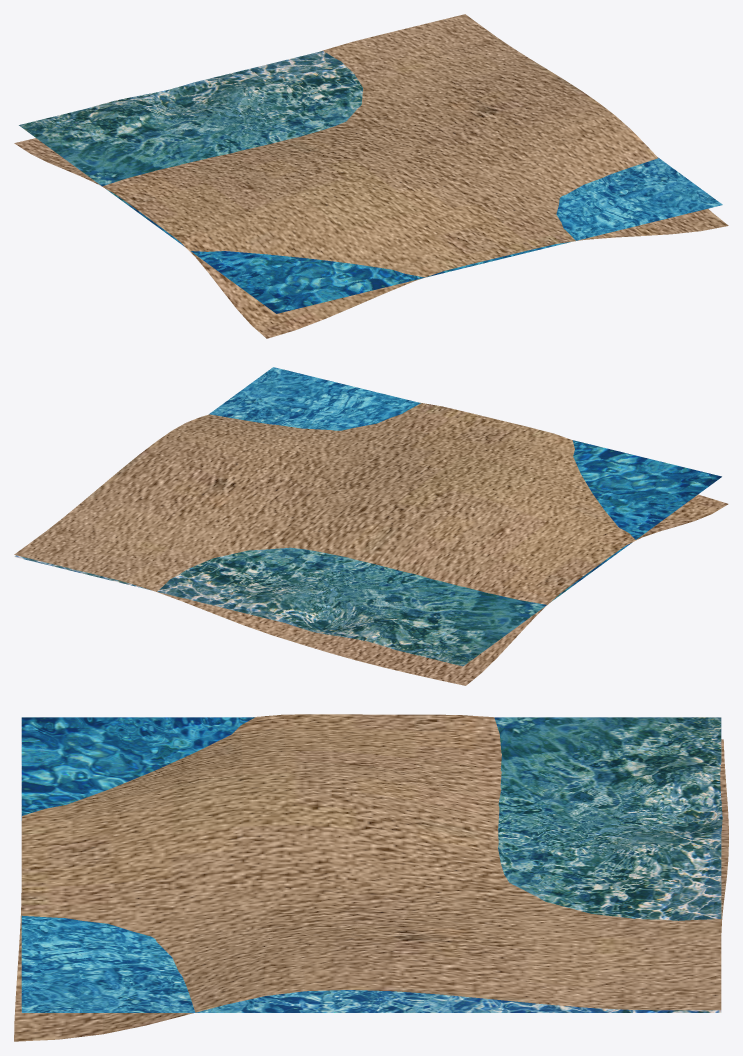
Rendered from beach.glb.
3 views of the same model, one above another, from view 1: azimuth 30°, elevation 25°; view 2: azimuth 150°, elevation 25°; view 3: azimuth 270°, elevation 25° (orthographic). The views are drawn at different scales.
Parts seen in each view (by area): view 1: Plane, Plane.001; view 2: Plane, Plane.001; view 3: Plane, Plane.001.
Part boxes in pixels (x1,y1,x2,y2): Plane: (14,14,728,338); Plane.001: (19,51,722,313); Plane: (14,402,728,685); Plane.001: (14,367,721,666); Plane: (14,714,728,1041); Plane.001: (21,717,722,1012).
Bounding box in the file's own units: 3.07 × 0.2837 × 3.07.
Materials: 2 (2 with a texture image).
